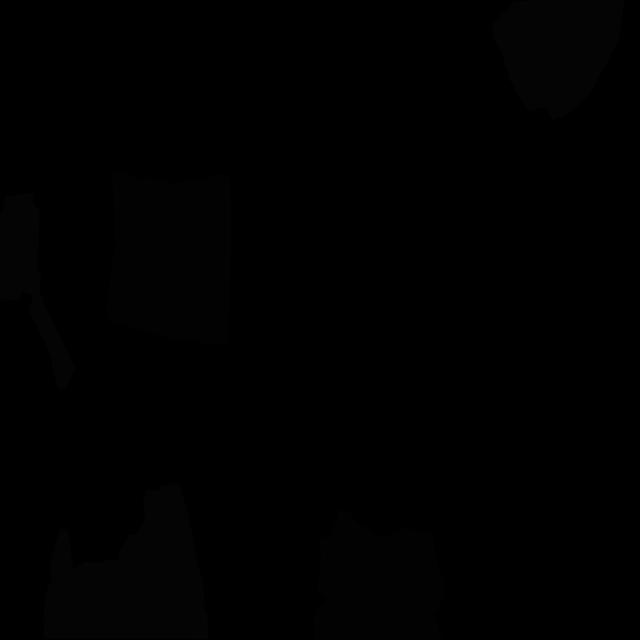cardboard: (106, 170, 231, 345), (313, 509, 445, 639)
soft_plastic: (43, 483, 208, 639), (492, 0, 624, 121), (0, 192, 76, 390)
